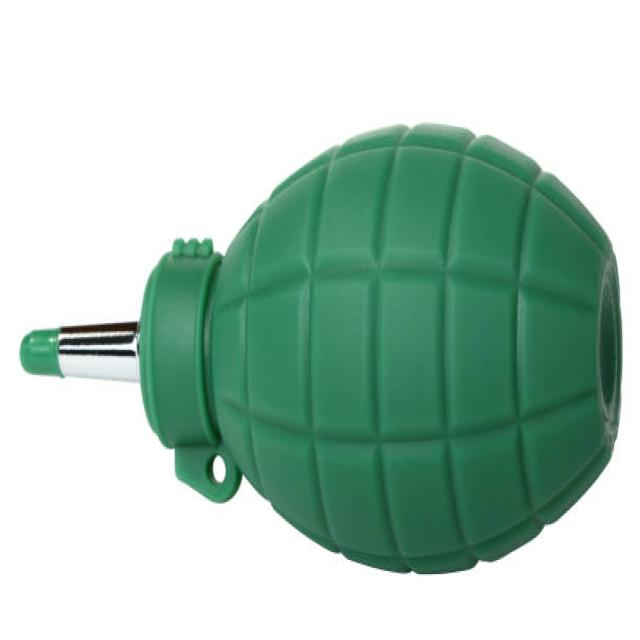grenade: (17, 122, 626, 588)
